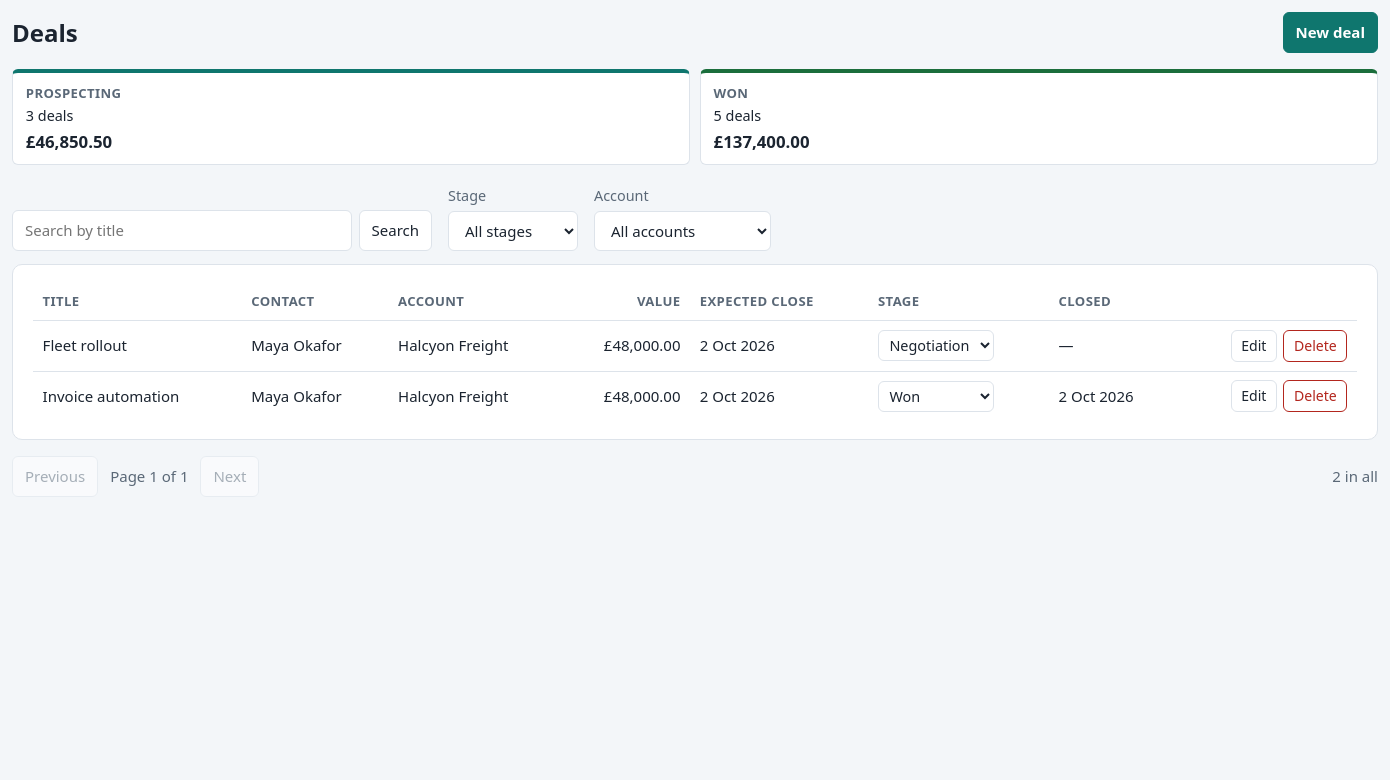
Test: DealsPage › shows the server problem when a stage change is refused, and keeps the old stage
Check: the text "Fleet rollout" is shown, box [33,321,242,371]
Select "Qualified" in the dropdown named "Stage of Fleet rollout". click: (936, 346)
box: [878,330,994,361]
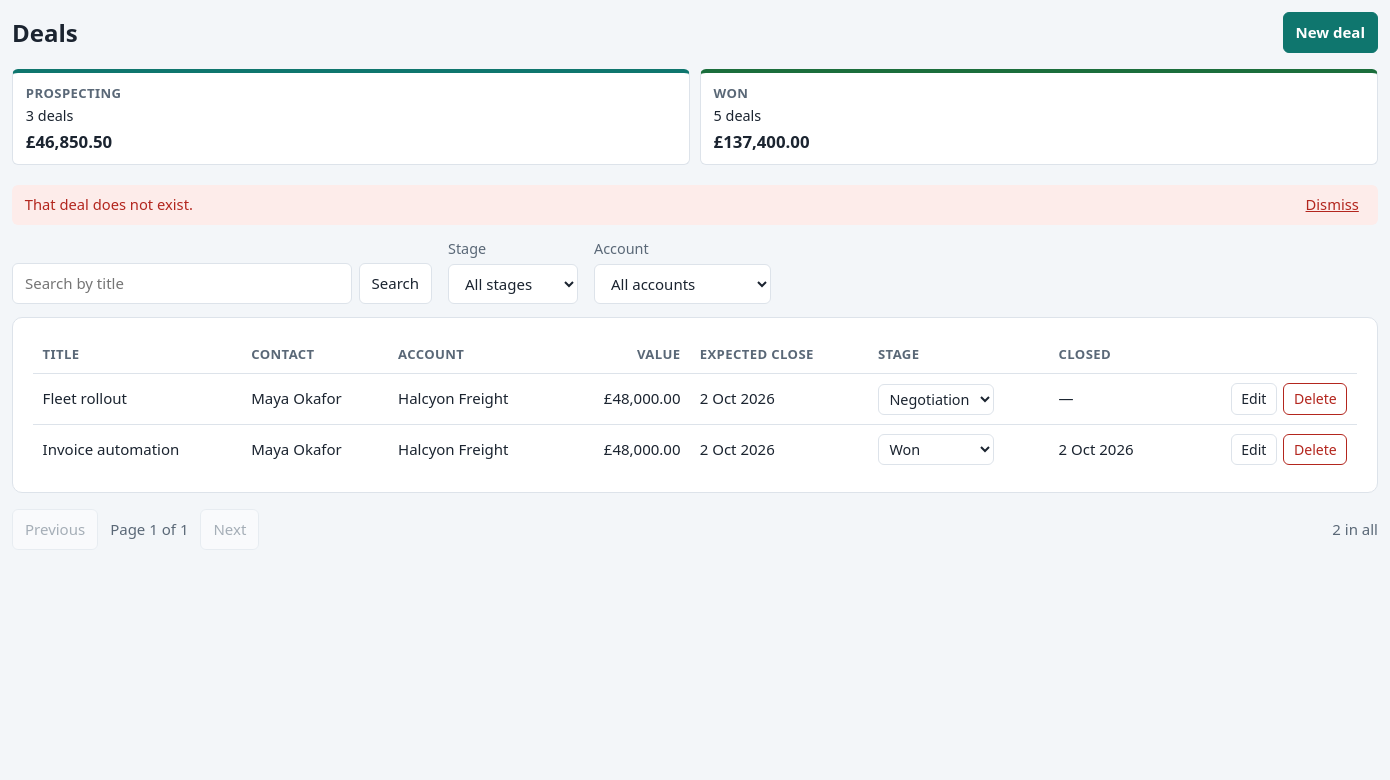
Check: the message shows "That deal does not exist.", box [25,194,193,214]
